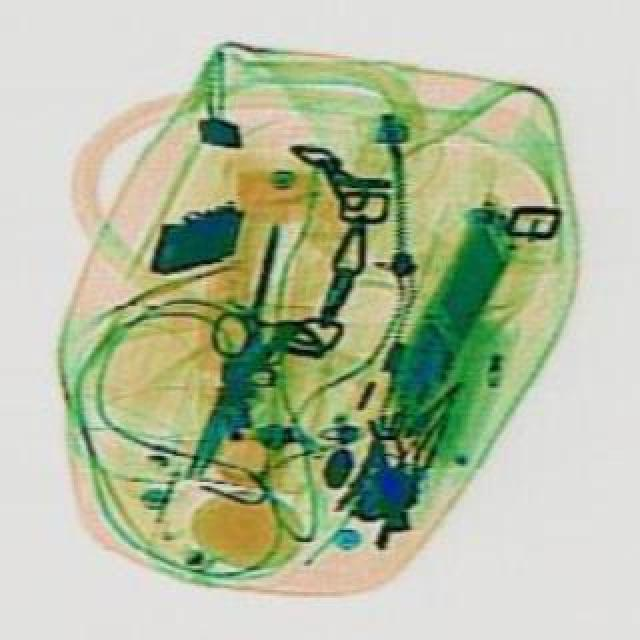pliers: (202, 216, 310, 368)
